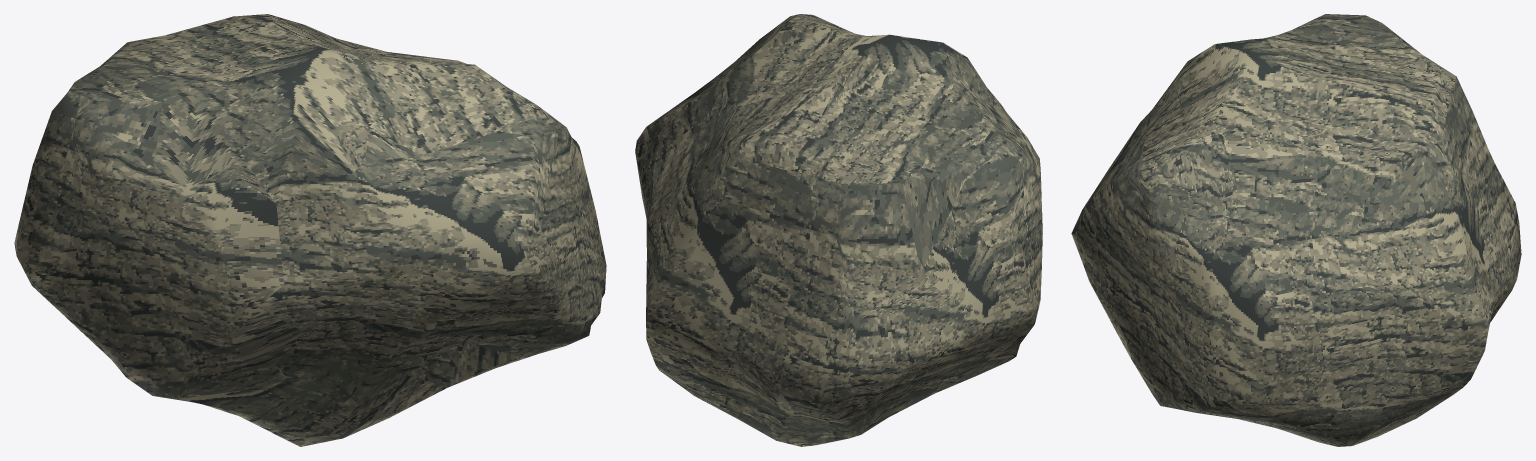
File: rockHuge03.fbx
The picture shows the model from 3 angles, left to right: view 1: azimuth 30°, elevation 25°; view 2: azimuth 150°, elevation 25°; view 3: azimuth 270°, elevation 25°; orthographic projection. The views are drawn at different scales.
Parts seen in each view (by area): view 1: RockHuge03; view 2: RockHuge03; view 3: RockHuge03.
Part boxes in pixels (box(x1,y1,x2,y2)): RockHuge03: box(14, 14, 606, 446); RockHuge03: box(635, 14, 1042, 446); RockHuge03: box(1071, 14, 1521, 446).
Bounding box in the file's own units: 449 × 340 × 399.
